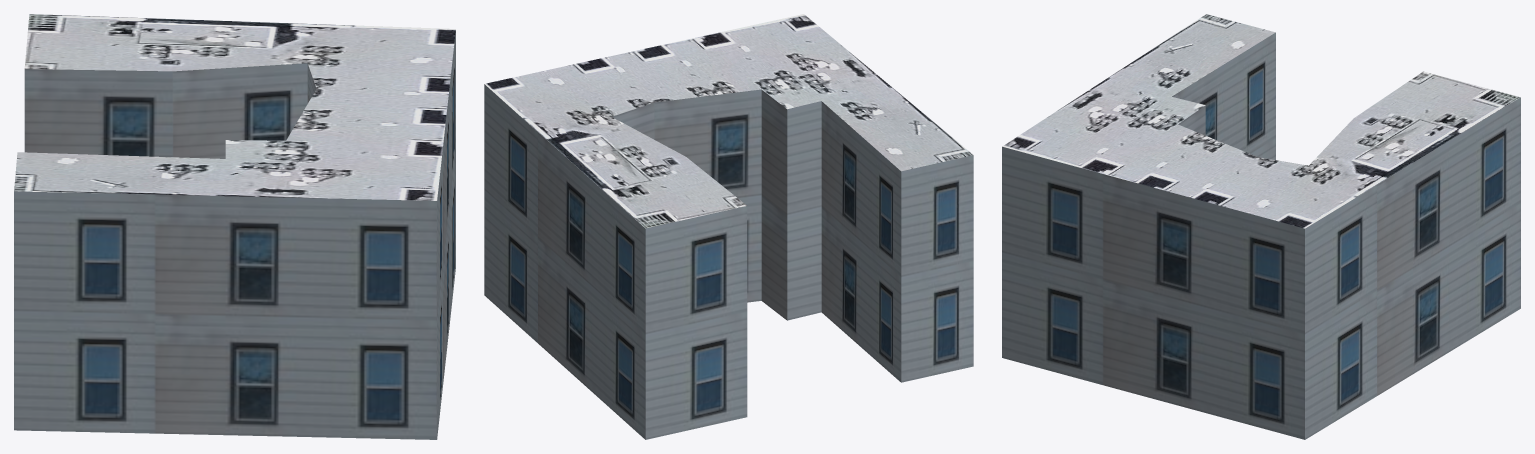
File: ResTex__3104.fbx
3 views of the same model, side by side, from view 1: azimuth 30°, elevation 25°; view 2: azimuth 150°, elevation 25°; view 3: azimuth 270°, elevation 25° (orthographic). The views are drawn at different scales.
Visible parts, largest first — view 1: CityEngineMaterial_18_m, CityEngineMaterial_m; view 2: CityEngineMaterial_18_m, CityEngineMaterial_m; view 3: CityEngineMaterial_18_m, CityEngineMaterial_m.
Part boxes in pixels (<box>): CityEngineMaterial_18_m: <box>14,30,455,439</box>; CityEngineMaterial_m: <box>14,14,455,200</box>; CityEngineMaterial_18_m: <box>484,84,973,439</box>; CityEngineMaterial_m: <box>485,14,973,228</box>; CityEngineMaterial_18_m: <box>1002,32,1520,439</box>; CityEngineMaterial_m: <box>1002,14,1520,228</box>.
Size of the model in its own units: 13.08 by 6 by 13.35.
Materials: 2 (2 with a texture image).
